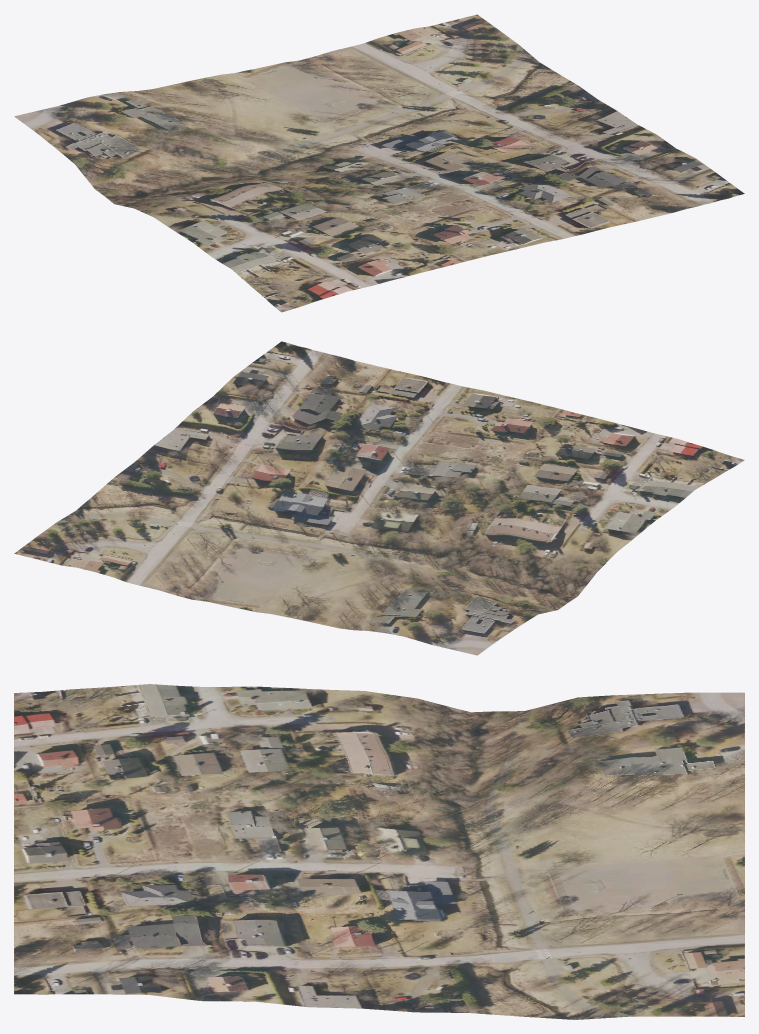
Rendered from CM_Terrain_24491073_6821022.fbx.
3 renders of one model, top to bottom at view 1: azimuth 30°, elevation 25°; view 2: azimuth 150°, elevation 25°; view 3: azimuth 270°, elevation 25°, orthographic. The views are drawn at different scales.
Visible parts, largest first — view 1: CM_Terrain_24491073_6821022_LOD0; view 2: CM_Terrain_24491073_6821022_LOD0; view 3: CM_Terrain_24491073_6821022_LOD0.
Boxes of the visible parts, left/top/right/bottom form: CM_Terrain_24491073_6821022_LOD0: left=14, top=14, right=744, bottom=312; CM_Terrain_24491073_6821022_LOD0: left=14, top=341, right=744, bottom=655; CM_Terrain_24491073_6821022_LOD0: left=14, top=684, right=744, bottom=1019.
Size of what is drawn, in the model's own units: 205 by 9.63 by 205.
